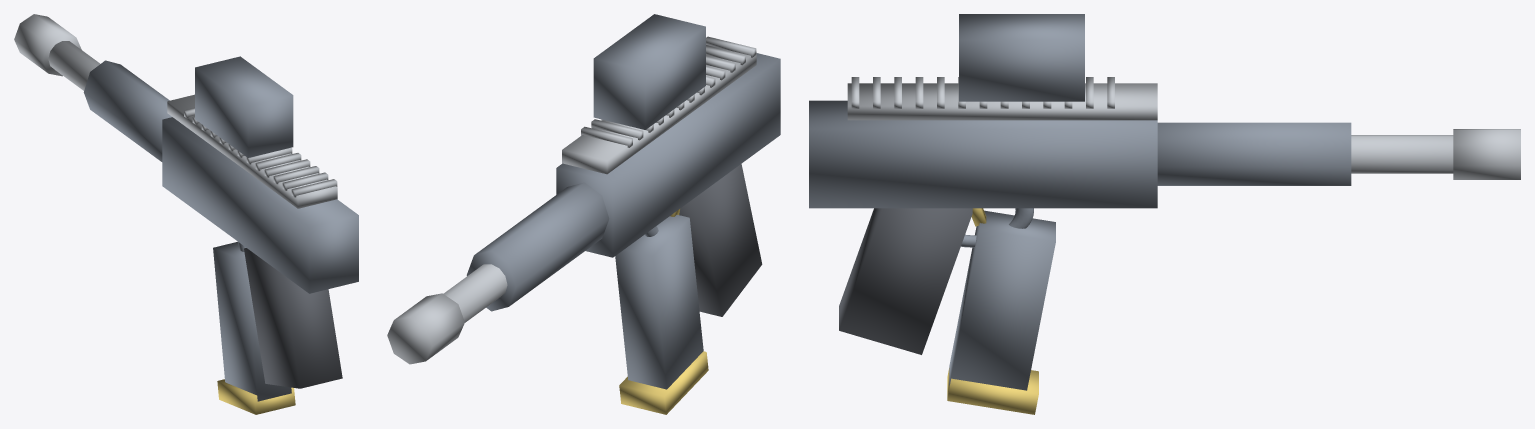
The model's file is high_quality_gun.glb.
3 renders of one model, left to right at view 1: azimuth 30°, elevation 25°; view 2: azimuth 150°, elevation 25°; view 3: azimuth 270°, elevation 25°, orthographic. The views are drawn at different scales.
Parts seen in each view (by area): view 1: Tactical_Gun_Model; view 2: Tactical_Gun_Model; view 3: Tactical_Gun_Model.
Part boxes in pixels (<box>): Tactical_Gun_Model: <box>14,14,358,414</box>; Tactical_Gun_Model: <box>387,14,780,414</box>; Tactical_Gun_Model: <box>809,14,1520,414</box>.
Bounding box in the file's own units: 0.35 × 2.14 × 3.67.
